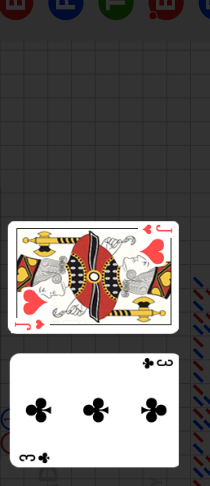3C: (18, 450, 53, 464)
JH: (141, 222, 174, 236)
